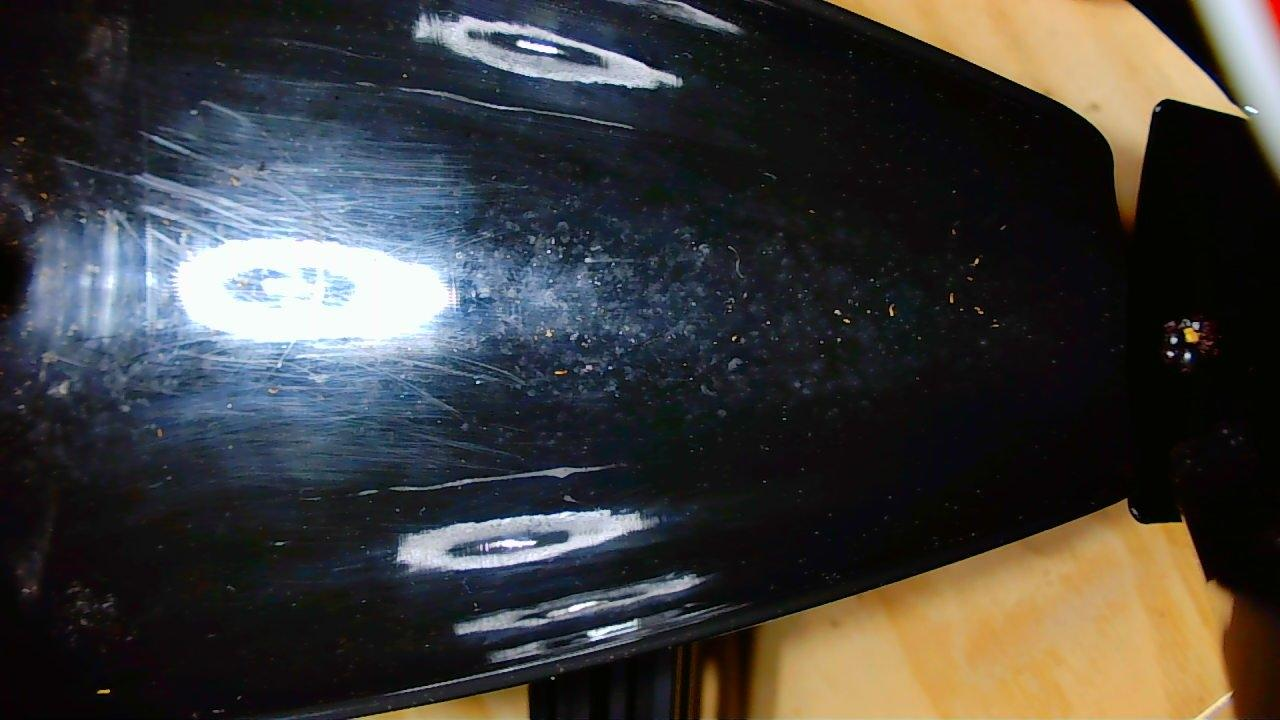berry: (1164, 314, 1214, 377)
